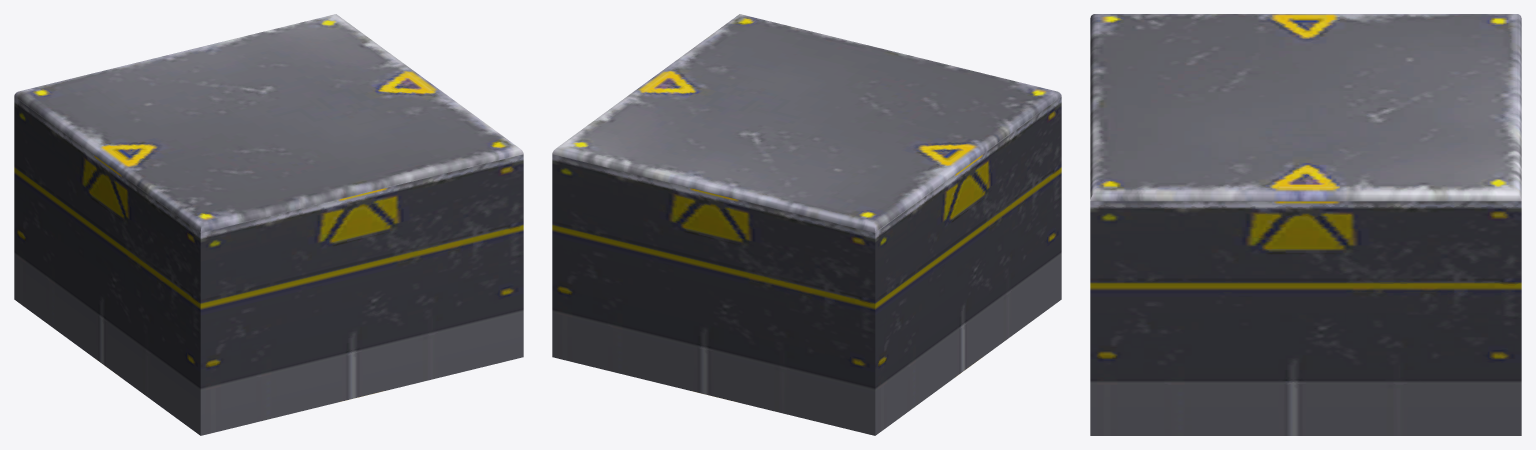
Rendered from Barrier.fbx.
3 views of the same model, side by side, from view 1: azimuth 30°, elevation 25°; view 2: azimuth 150°, elevation 25°; view 3: azimuth 270°, elevation 25° (orthographic). The views are drawn at different scales.
Visible parts, largest first — view 1: Barrier; view 2: Barrier; view 3: Barrier.
Boxes of the visible parts, x1,y1,x2,y2 form: Barrier: (14, 14, 523, 435); Barrier: (552, 14, 1061, 435); Barrier: (1090, 14, 1521, 435).
Size of the model in its own units: 1 by 0.62 by 1.
3 materials, 3 textured.
